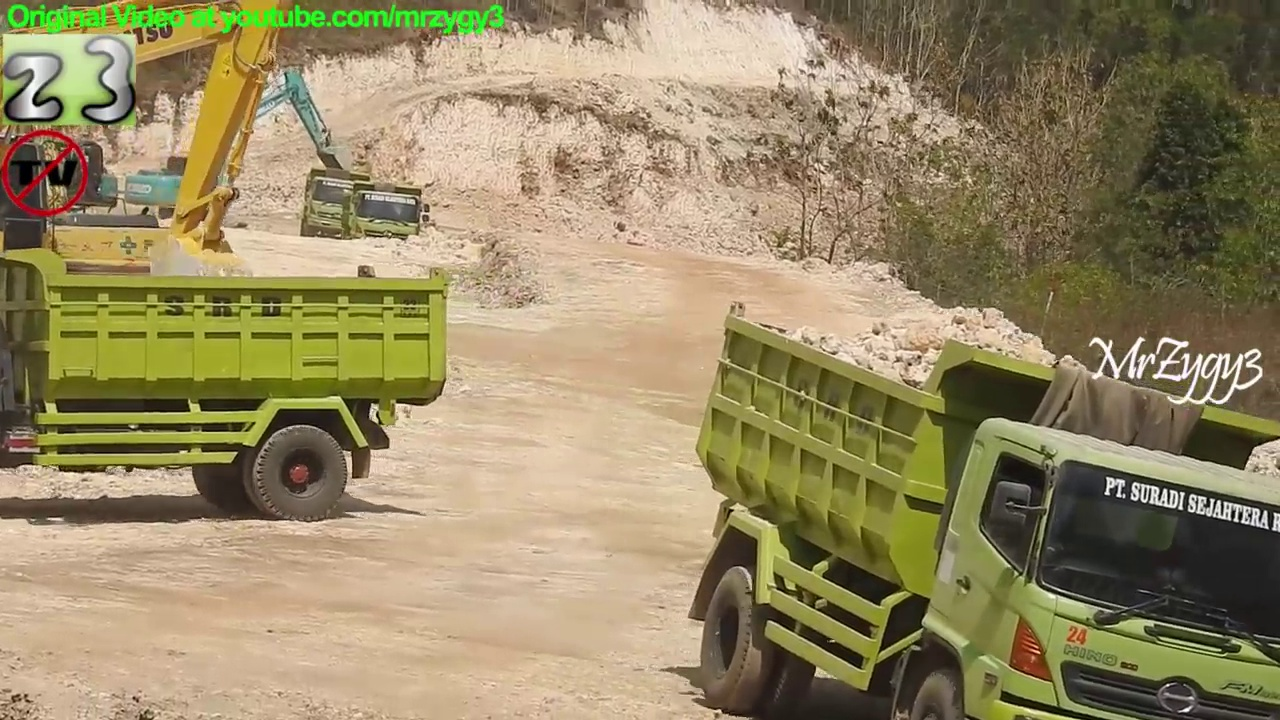excavator: (1, 1, 303, 383), (1, 1, 230, 300), (124, 65, 361, 243), (6, 1, 133, 244)
truck: (682, 295, 1280, 720), (1, 238, 452, 526), (343, 179, 433, 261), (298, 165, 377, 251)
